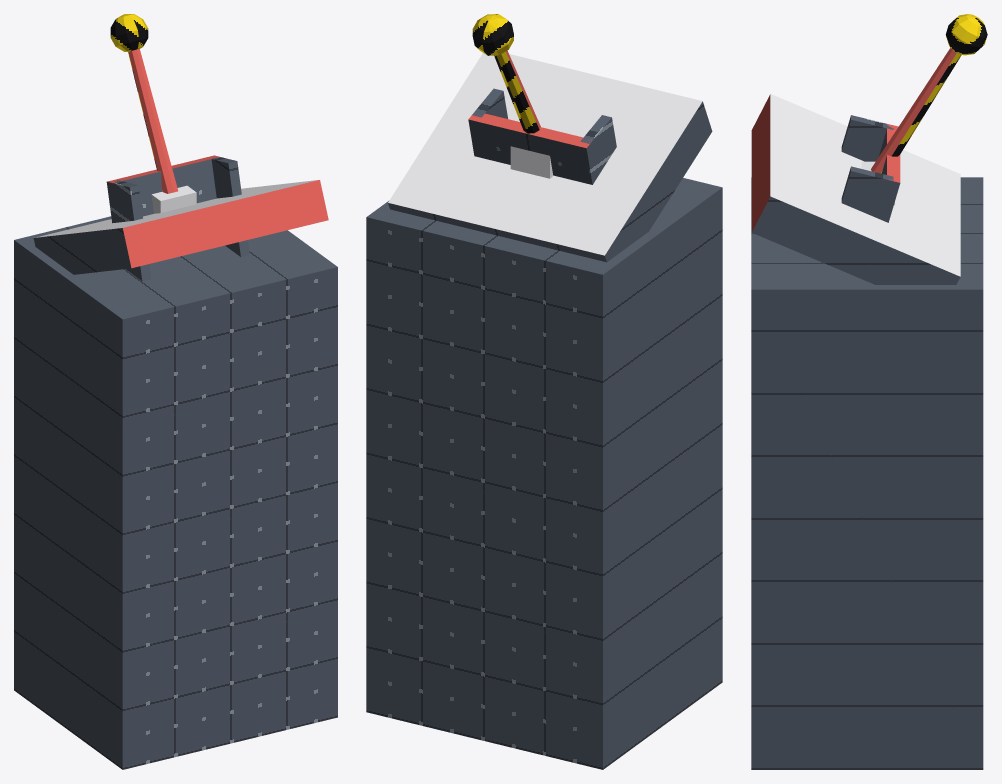
The model's file is launch_lever.glb.
3 views of the same model, side by side, from view 1: azimuth 30°, elevation 25°; view 2: azimuth 150°, elevation 25°; view 3: azimuth 270°, elevation 25° (orthographic). The views are drawn at different scales.
Parts seen in each view (by area): view 1: launch_lever; view 2: launch_lever; view 3: launch_lever.
Boxes of the visible parts, x1,y1,x2,y2 form: launch_lever: (14, 14, 337, 769); launch_lever: (366, 14, 722, 769); launch_lever: (751, 14, 987, 769).
Bounding box in the file's own units: 0.48 × 1.4 × 0.428.
Materials: 5 (3 with a texture image).
